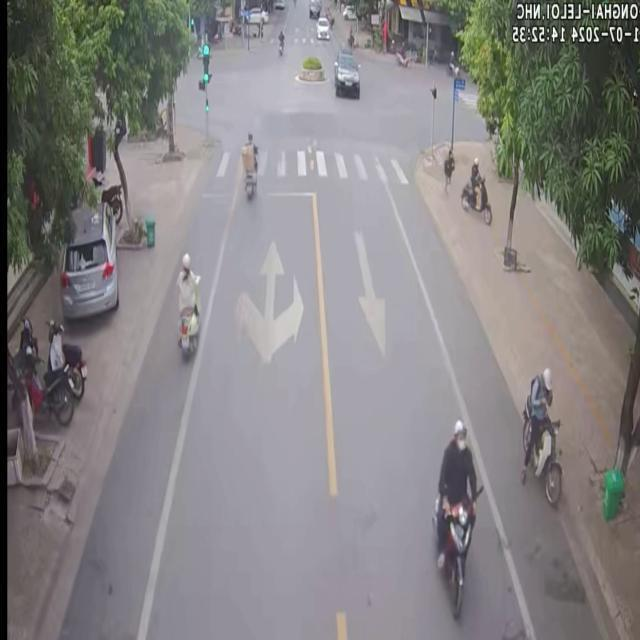car: (58, 200, 117, 318), (332, 49, 358, 98), (314, 16, 329, 38)
green_light: (202, 44, 209, 83)
motobike: (430, 418, 480, 616), (519, 365, 560, 502), (13, 345, 72, 422), (46, 318, 86, 398), (174, 251, 199, 357), (459, 176, 490, 222), (239, 131, 257, 198)
stop_line: (195, 189, 243, 199), (255, 190, 314, 197)
